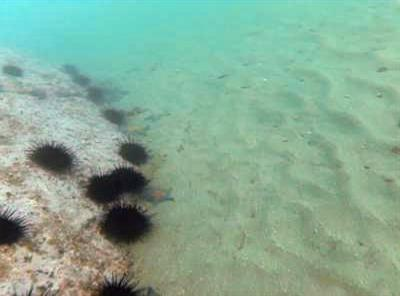urchin: (102, 203, 154, 245), (28, 139, 77, 175), (91, 270, 142, 296), (86, 170, 125, 204), (110, 162, 148, 192), (0, 207, 28, 247), (118, 140, 151, 166), (102, 106, 123, 125)
